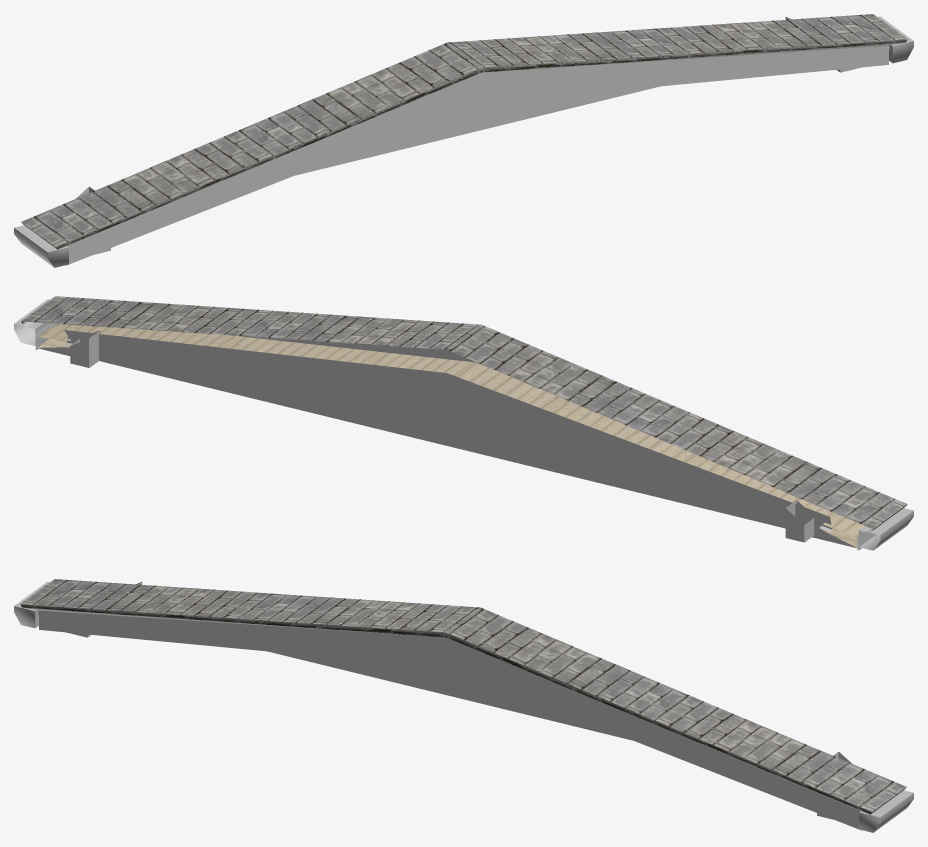
Rendered from RoofLow_End_5x.FBX.
3 views of the same model, one above another, from view 1: azimuth 30°, elevation 25°; view 2: azimuth 150°, elevation 25°; view 3: azimuth 330°, elevation 25° (orthographic).
Parts seen in each view (by area): view 1: RoofLow_End_5x; view 2: RoofLow_End_5x; view 3: RoofLow_End_5x.
Boxes of the visible parts, x1,y1,x2,y2 form: RoofLow_End_5x: (14, 14, 913, 267); RoofLow_End_5x: (14, 296, 913, 550); RoofLow_End_5x: (14, 579, 913, 832).
Bounding box in the file's own units: 594 × 65.78 × 52.41.
